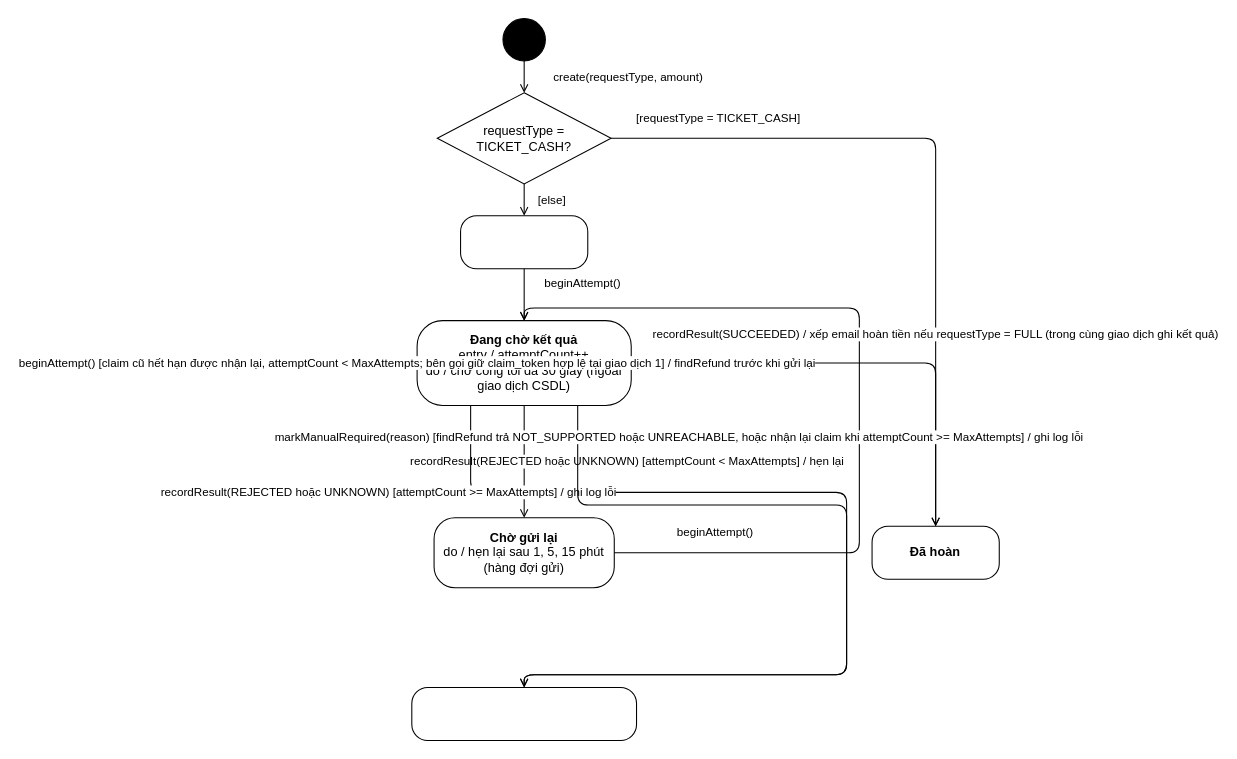
Some shapes in this 1237 by 759 pixel diagram are drawn without their labels. Here are the shapes that lost their labels. From the top down, the centre of each, then its label:
the point at 524,242: Mới
the point at 524,713: Cần xử lý thủ công entry / ghi log lỗi khoản hoàn
